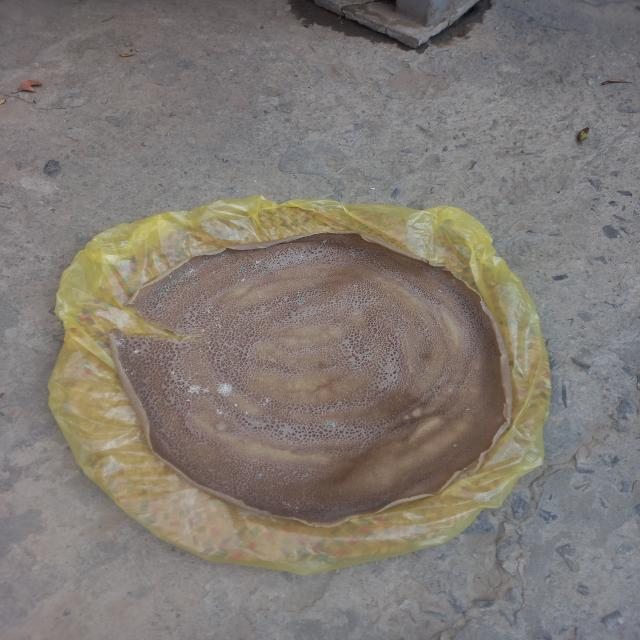injera_mold: (198, 304, 224, 334), (165, 369, 200, 384), (280, 500, 303, 514), (186, 384, 211, 395), (111, 336, 131, 349), (216, 382, 232, 396), (258, 396, 271, 408), (184, 266, 198, 276), (122, 367, 136, 377), (326, 420, 336, 430), (255, 472, 263, 480), (215, 409, 225, 415), (190, 281, 198, 287), (253, 260, 264, 264), (239, 266, 246, 272), (238, 278, 246, 283), (202, 260, 210, 265), (132, 350, 140, 355), (184, 398, 192, 403), (322, 239, 329, 244), (185, 411, 193, 415), (298, 300, 304, 305), (155, 294, 165, 297), (297, 292, 303, 296), (172, 280, 178, 284), (234, 402, 238, 408), (452, 444, 458, 448), (465, 408, 471, 412), (437, 290, 443, 294), (310, 284, 316, 288), (350, 252, 356, 256), (263, 272, 268, 276), (163, 287, 168, 291), (177, 272, 181, 276), (244, 411, 249, 414), (258, 295, 262, 298)
